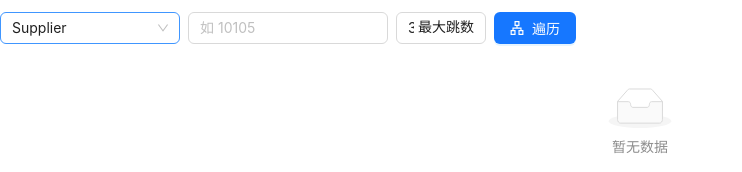
Test case: GraphTraversalPanel › API 失败 → 显示错误消息
Type "100001" into the field with placeholder "如 10105".
click(280, 28); type("100001")  # box [200,17,360,39]
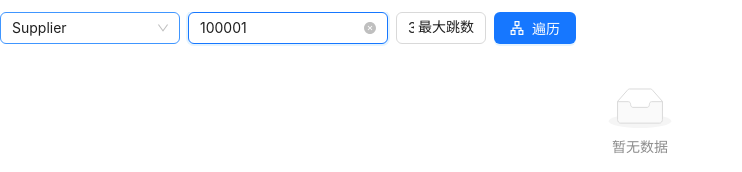
Click the button "遍历".
click(535, 28)  # box [494,12,576,44]
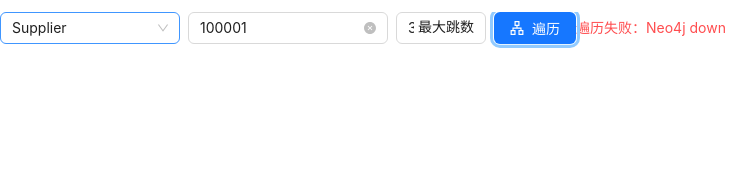
Now the text "遍历失败：Neo4j down" is shown, box [576,19,726,36]
